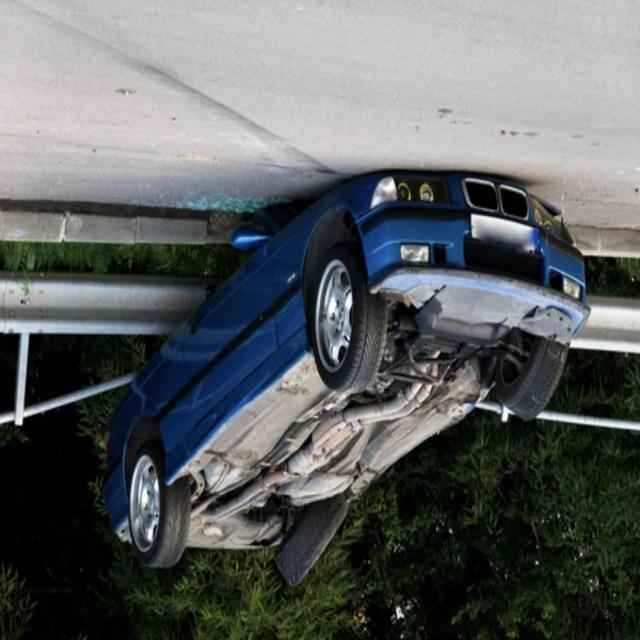severe: (101, 162, 594, 595)
